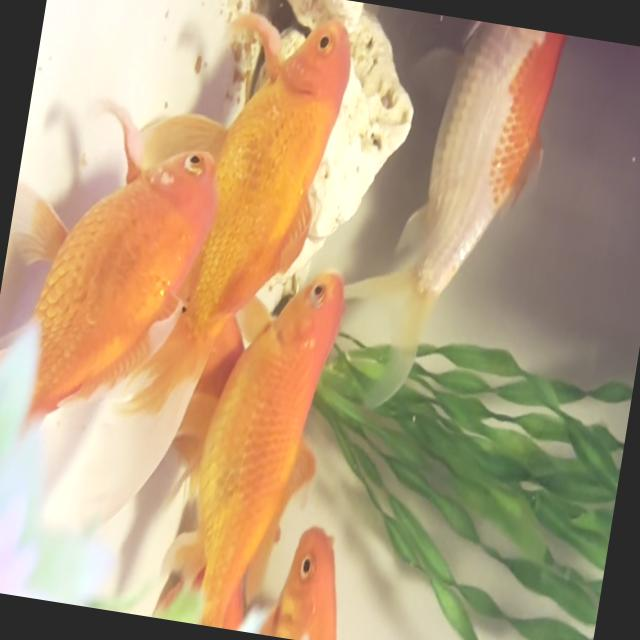fish: (320, 6, 564, 429), (0, 87, 234, 462), (167, 245, 349, 640), (211, 0, 424, 301), (256, 517, 385, 640)
